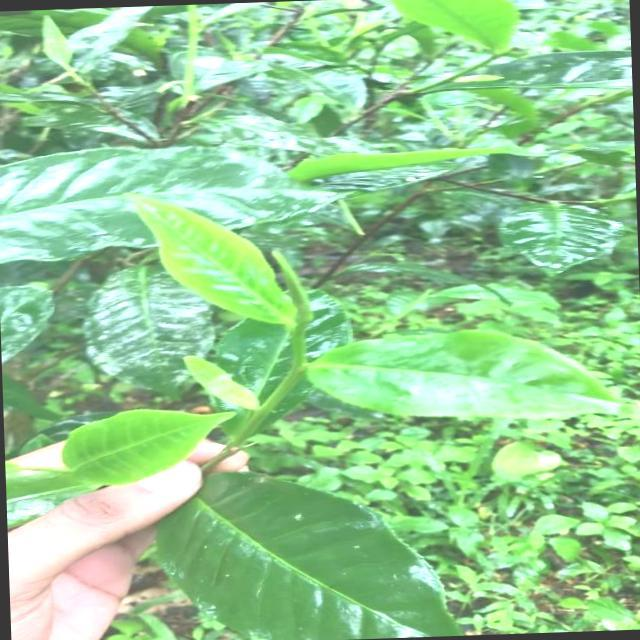Stem: (283, 370, 301, 388)
